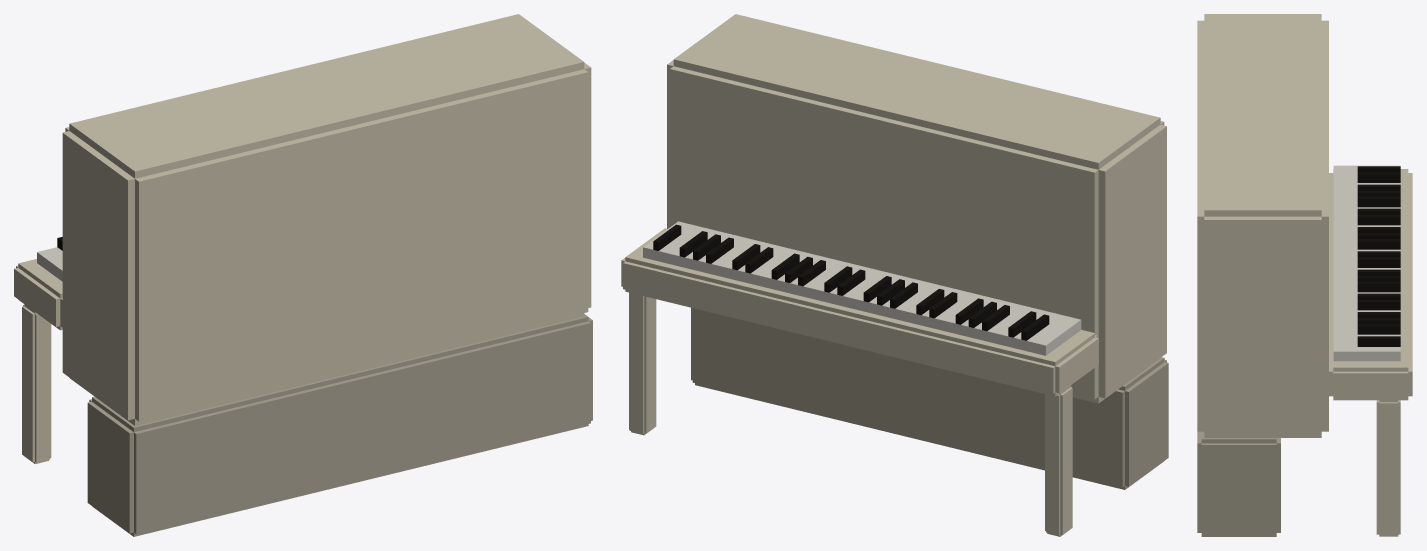
The model's file is bone_piano_v0.glb.
3 views of the same model, side by side, from view 1: azimuth 30°, elevation 25°; view 2: azimuth 150°, elevation 25°; view 3: azimuth 270°, elevation 25° (orthographic). The views are drawn at different scales.
Visible parts, largest first — view 1: bone_piano_v0; view 2: bone_piano_v0; view 3: bone_piano_v0.
Part boxes in pixels (x1,y1,x2,y2): bone_piano_v0: (14, 14, 592, 536); bone_piano_v0: (621, 14, 1168, 536); bone_piano_v0: (1197, 14, 1412, 536).
Bounding box in the file's own units: 2 × 1.5 × 0.9.
